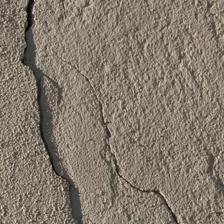Crack: (30, 0, 188, 165), (34, 0, 145, 94)
